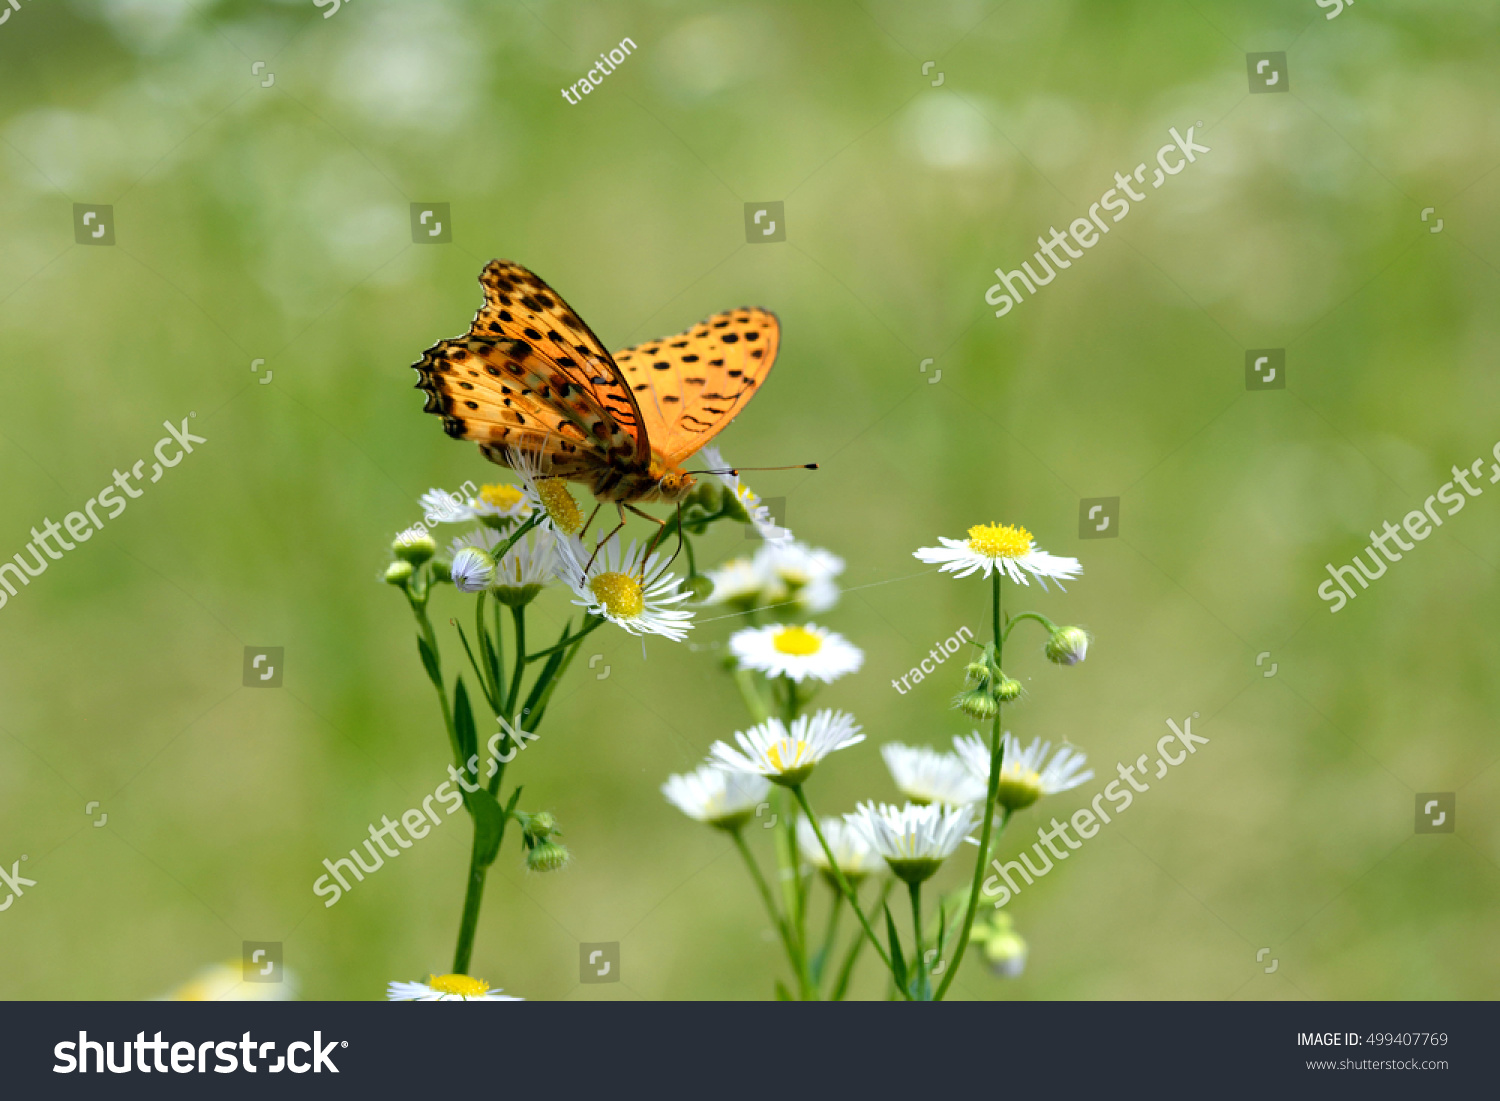Argyreus hyperbius: (411, 248, 839, 593)
butterfly: (413, 250, 840, 595)
